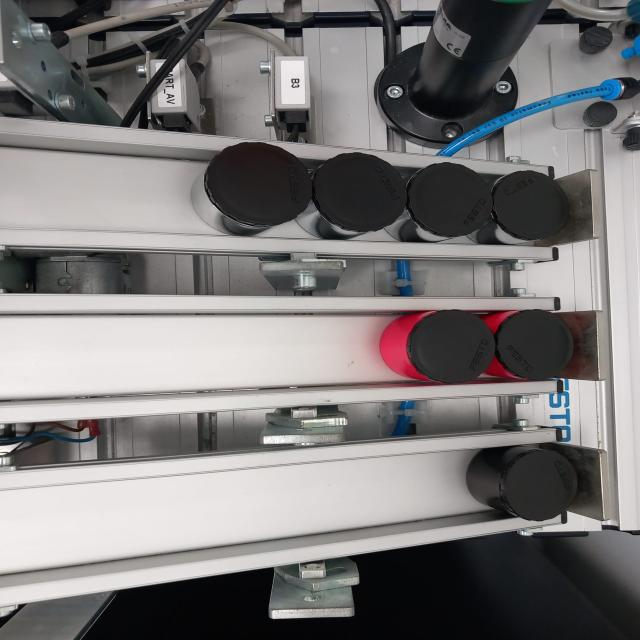Workpiece: (469, 436, 597, 531), (199, 136, 313, 238), (387, 297, 499, 390), (410, 146, 504, 248), (502, 148, 592, 246), (318, 141, 405, 240), (502, 300, 600, 382)
